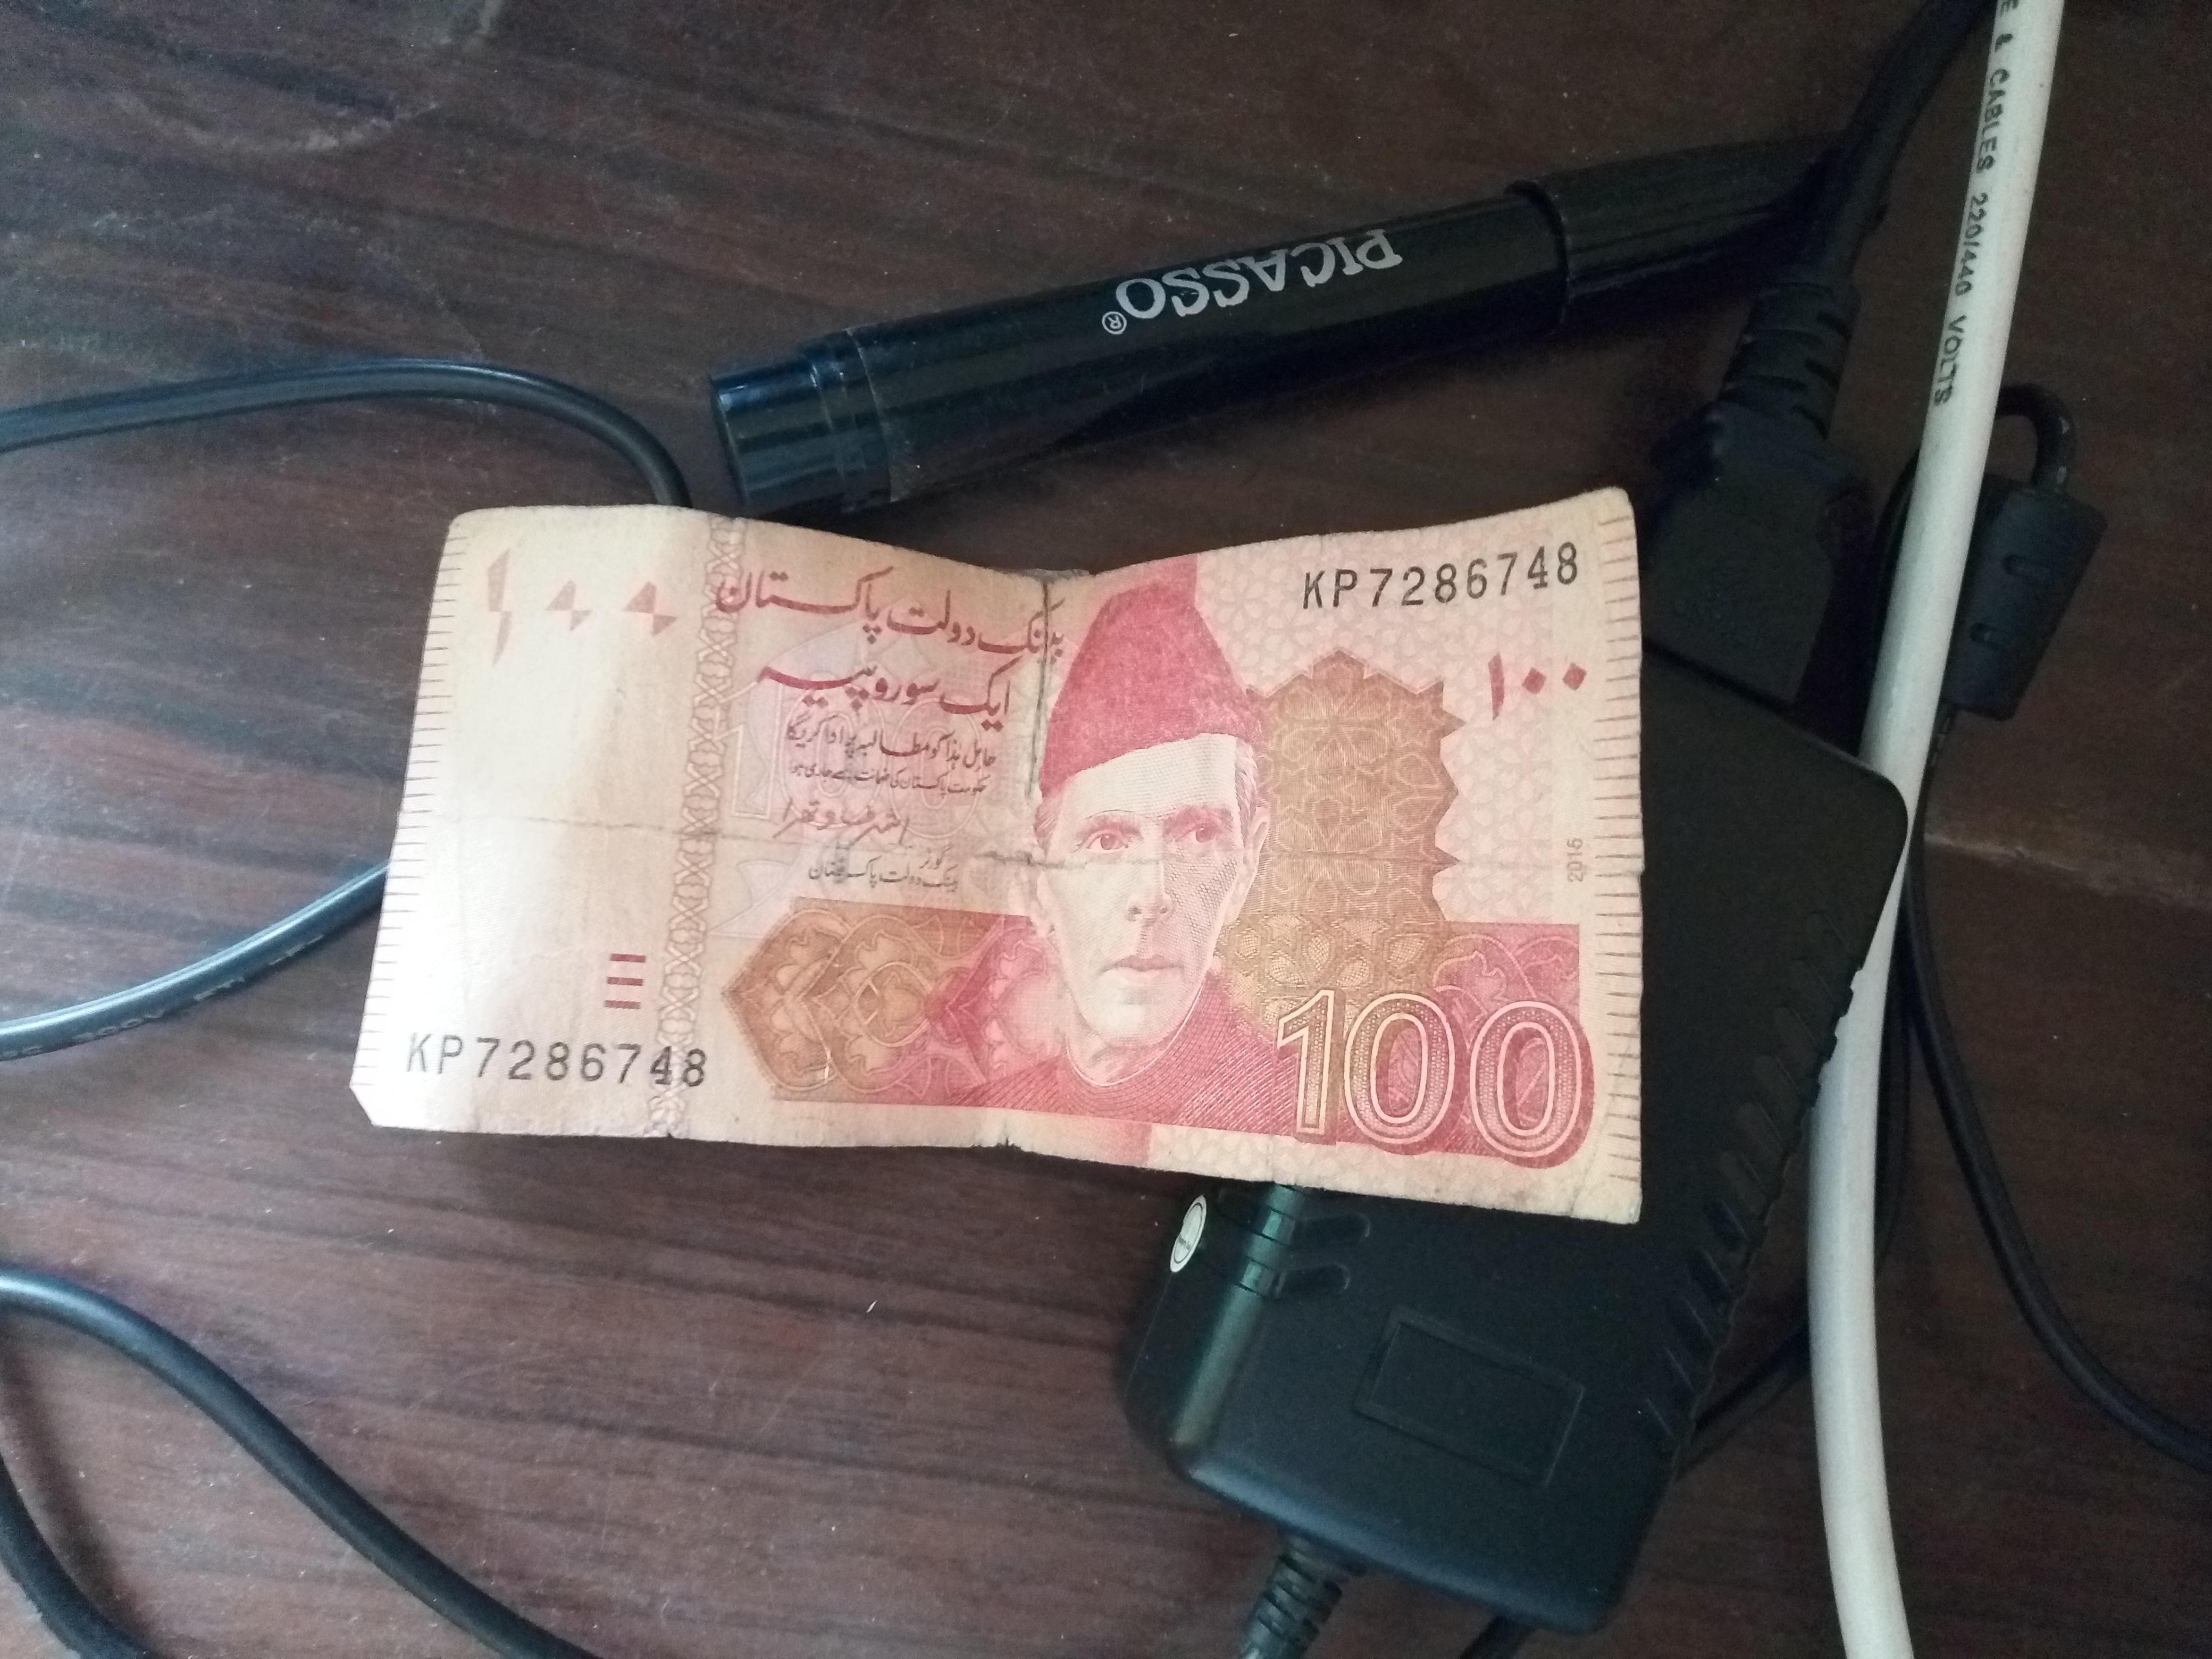100 rupee: (364, 486, 1635, 1185)
